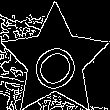O_NE: (23, 28, 87, 93)
